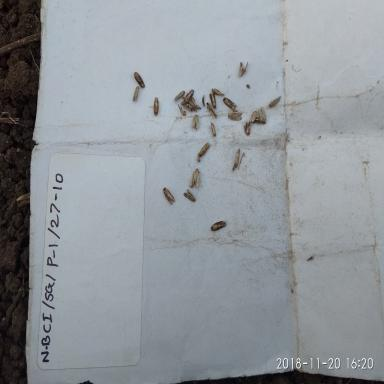pbw: (186, 166, 203, 188), (266, 93, 284, 110), (231, 147, 242, 173), (162, 186, 176, 205), (197, 142, 213, 158), (227, 108, 243, 122), (208, 121, 220, 139), (209, 220, 227, 232), (206, 102, 218, 120), (134, 71, 145, 89), (182, 188, 196, 202), (222, 97, 238, 109), (182, 89, 194, 104), (131, 84, 140, 104), (208, 92, 218, 109), (238, 61, 248, 78), (152, 96, 160, 116), (242, 120, 252, 136), (182, 99, 194, 112), (173, 89, 186, 101), (191, 113, 200, 130), (249, 108, 258, 125), (210, 86, 225, 96), (258, 106, 266, 124), (252, 116, 266, 124), (191, 97, 198, 113), (195, 104, 202, 110)
